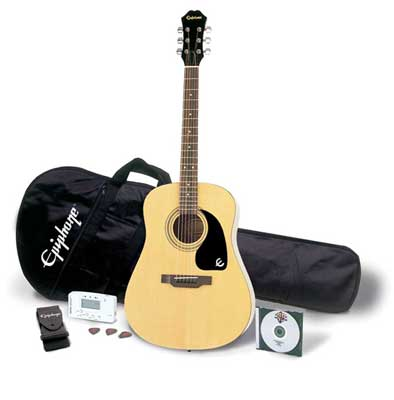guitar: (124, 9, 257, 352)
